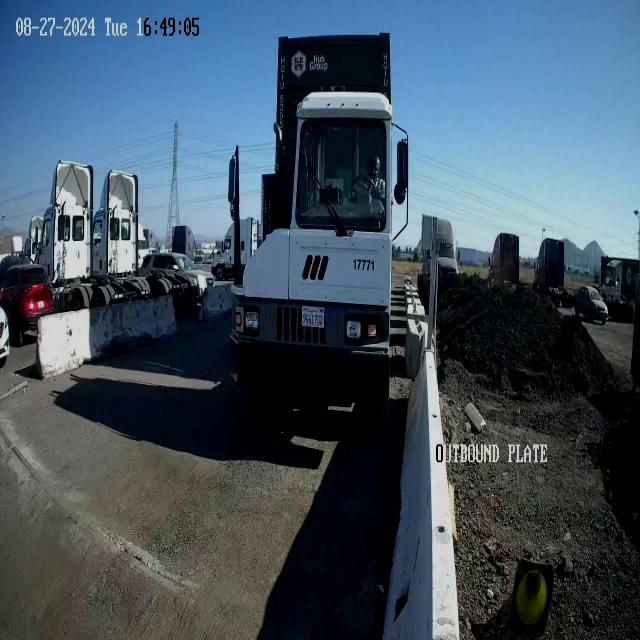CONTAINER: (278, 31, 394, 313)
